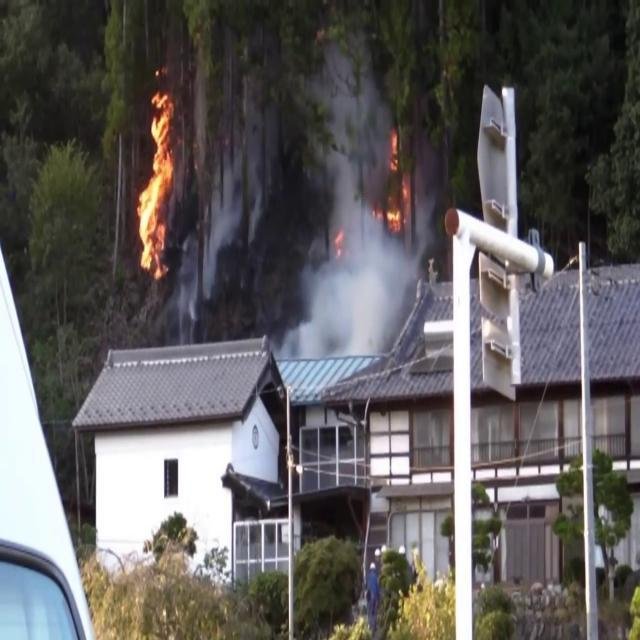Fire: (132, 84, 180, 282), (381, 122, 416, 234)
Smoke: (292, 16, 427, 368), (190, 75, 270, 305)
